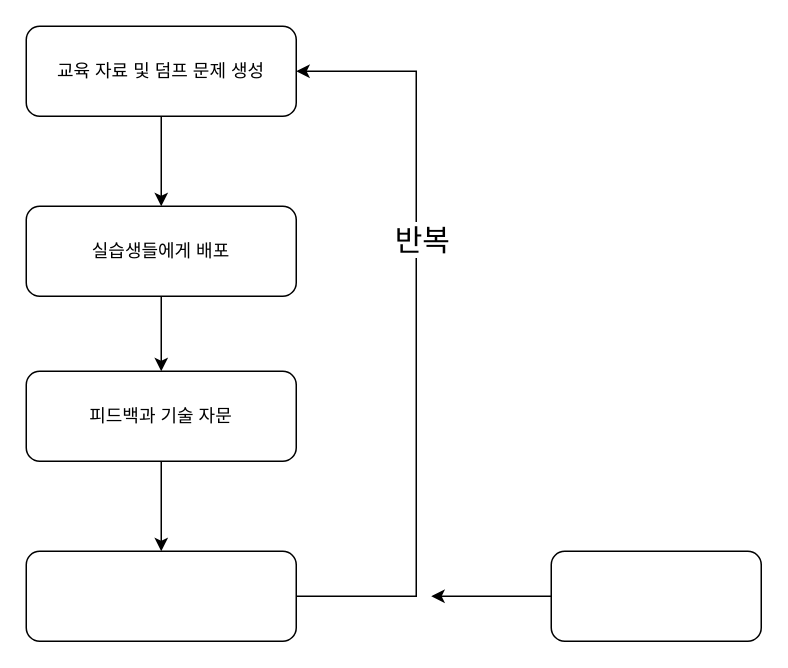
The diagram is 788 pixels wide and 668 high, and some of its shapes have lost their labels. Each missing label, with the box of its shape:
수정: (25, 550, 296, 641)
우수 문한 시험 문제로 채택: (550, 550, 761, 641)
